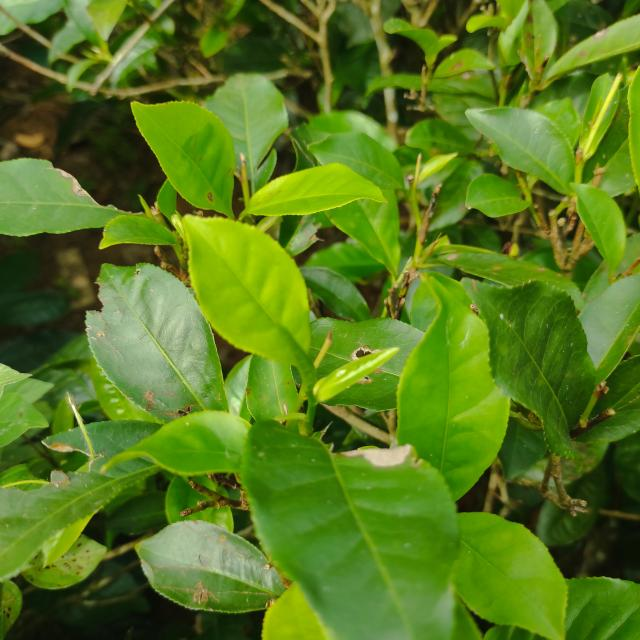unopened_leaf: (272, 311, 320, 410)
